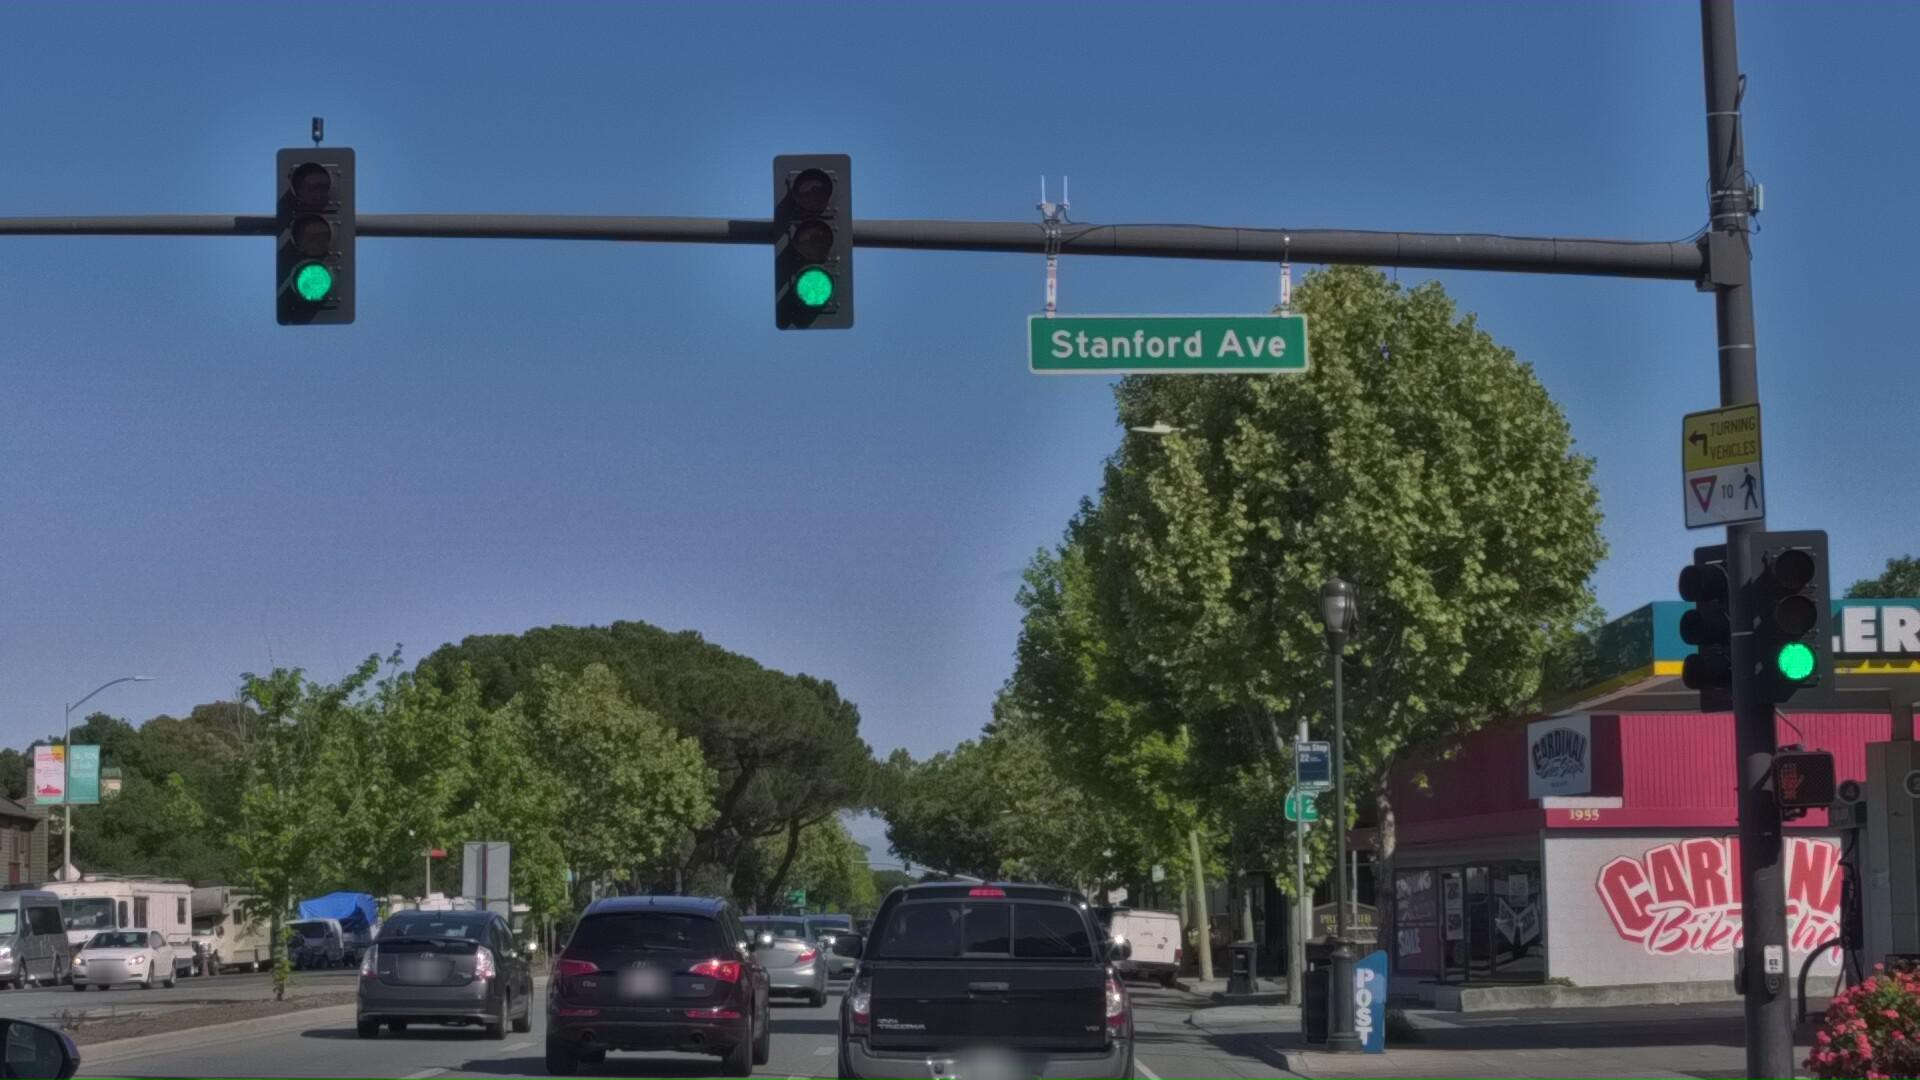car: (0, 731, 225, 1080), (845, 952, 1153, 1080), (537, 986, 777, 1080), (347, 986, 545, 1080), (695, 1014, 839, 1080), (1098, 985, 1193, 1080), (778, 1011, 869, 1080), (55, 1030, 179, 1080), (0, 992, 40, 1080), (0, 998, 18, 1080)
